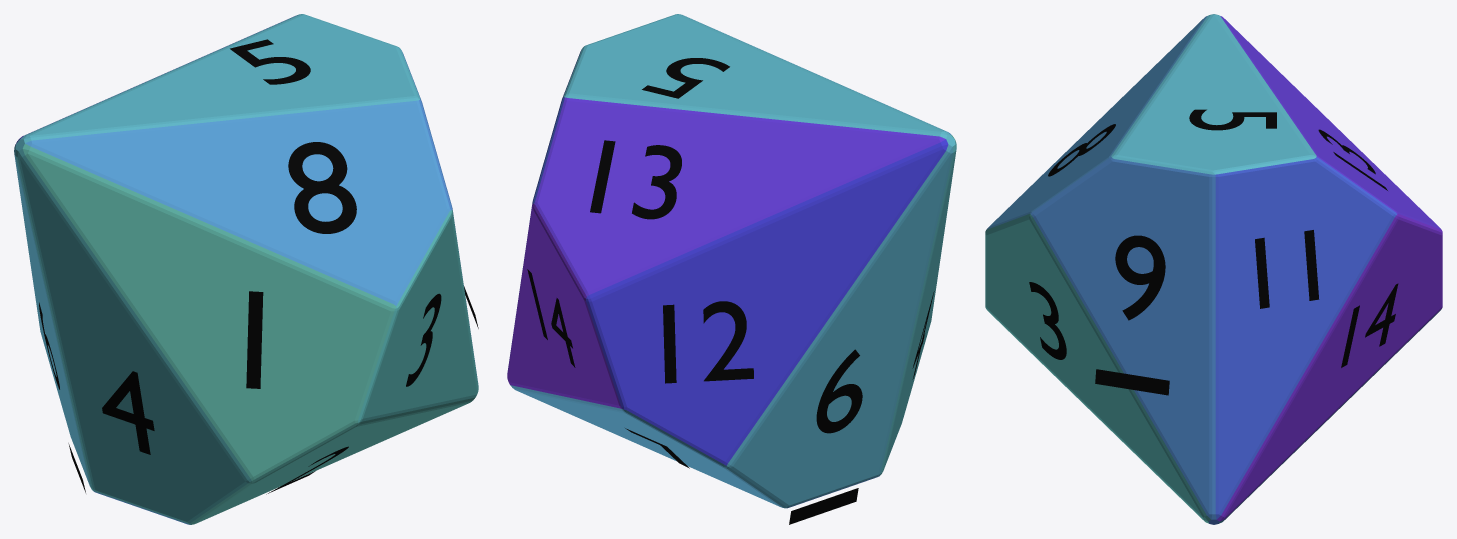
3 views of the same model, side by side, from view 1: azimuth 30°, elevation 25°; view 2: azimuth 150°, elevation 25°; view 3: azimuth 270°, elevation 25° (orthographic). The views are drawn at different scales.
Visible parts, largest first — view 1: d14, d14_num; view 2: d14, d14_num; view 3: d14, d14_num.
Boxes of the visible parts, x1,y1,x2,y2 form: d14: (14,14,478,524); d14_num: (39,39,478,494); d14: (507,14,956,508); d14_num: (527,58,934,524); d14: (985,14,1442,524); d14_num: (1029,109,1398,395).
Size of the model in its own units: 2.53 by 2.06 by 2.51.
